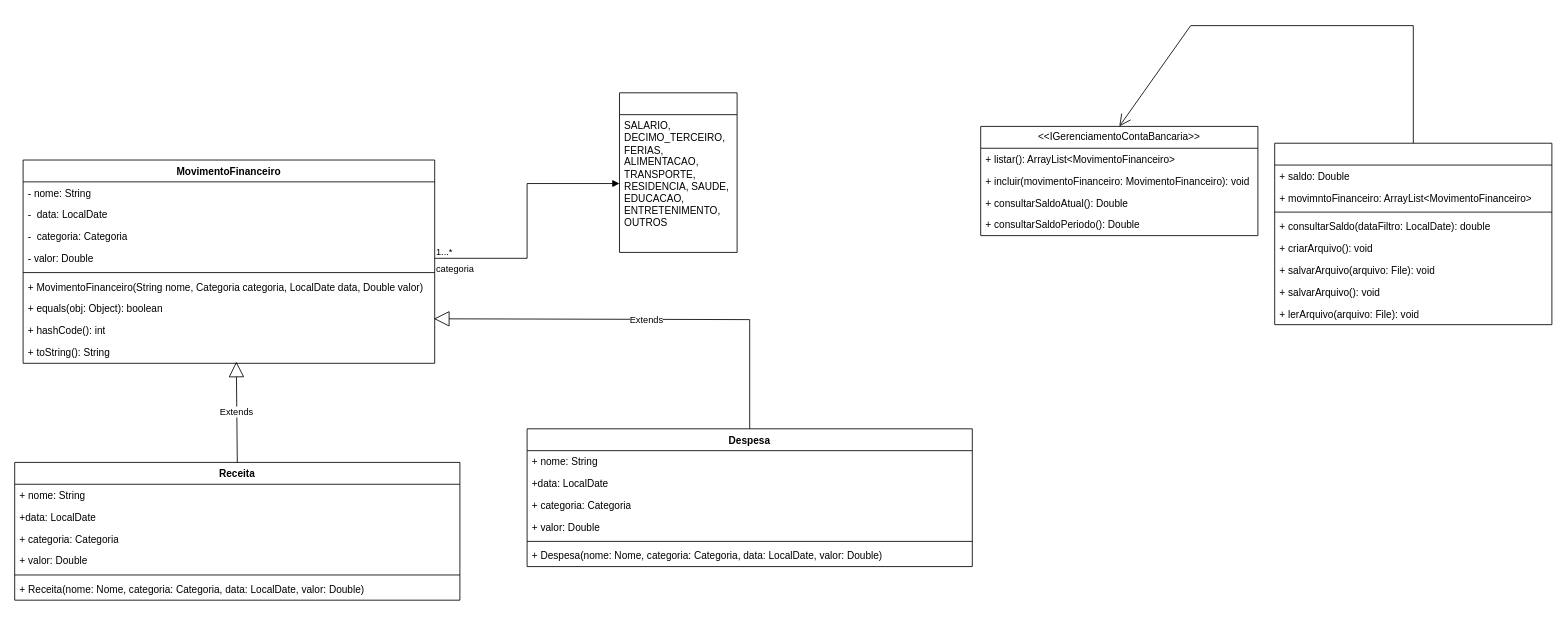
This 1567x617 diagram has some shape labels left out. Here are the shapes that lost their labels. From the top down, the box of each, then its label:
(619, 92, 737, 252): <<enum>> Categoria
(1274, 142, 1552, 325): ContaBancaria
